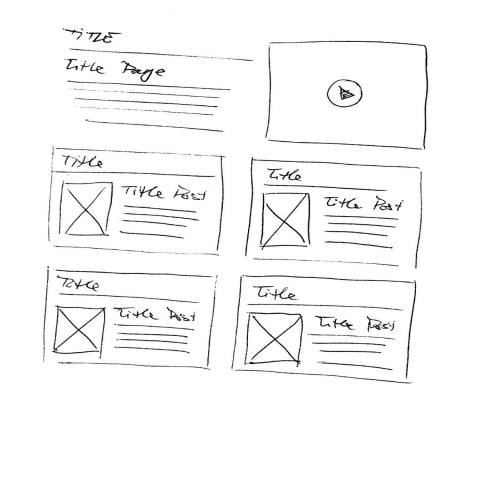Heading: (59, 24, 126, 44), (251, 282, 299, 303), (62, 54, 109, 75), (54, 273, 105, 292), (314, 312, 358, 332), (60, 150, 105, 169), (111, 304, 157, 320), (264, 165, 303, 181), (322, 192, 360, 208)
Image: (241, 309, 305, 368), (55, 177, 115, 238), (258, 189, 312, 250), (51, 303, 105, 357)
Paragraph: (62, 78, 231, 133), (305, 330, 397, 372), (110, 319, 195, 357), (319, 210, 399, 250)
